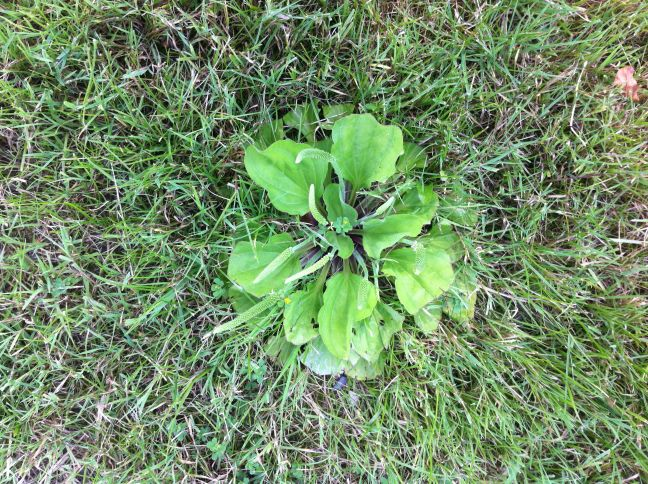weed1: (221, 108, 482, 384)
